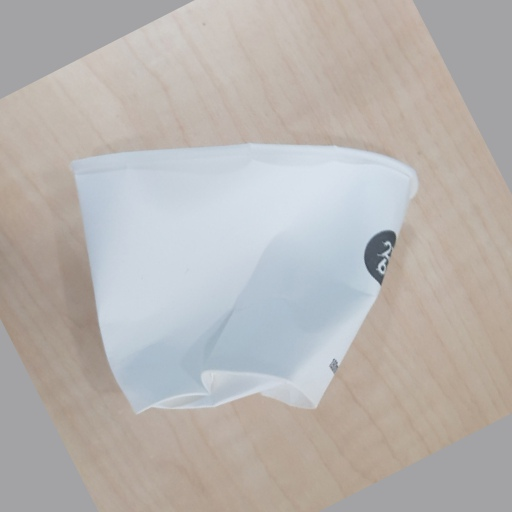Paper_1: (63, 141, 423, 415)
